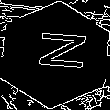N_W: (25, 33, 85, 77)
